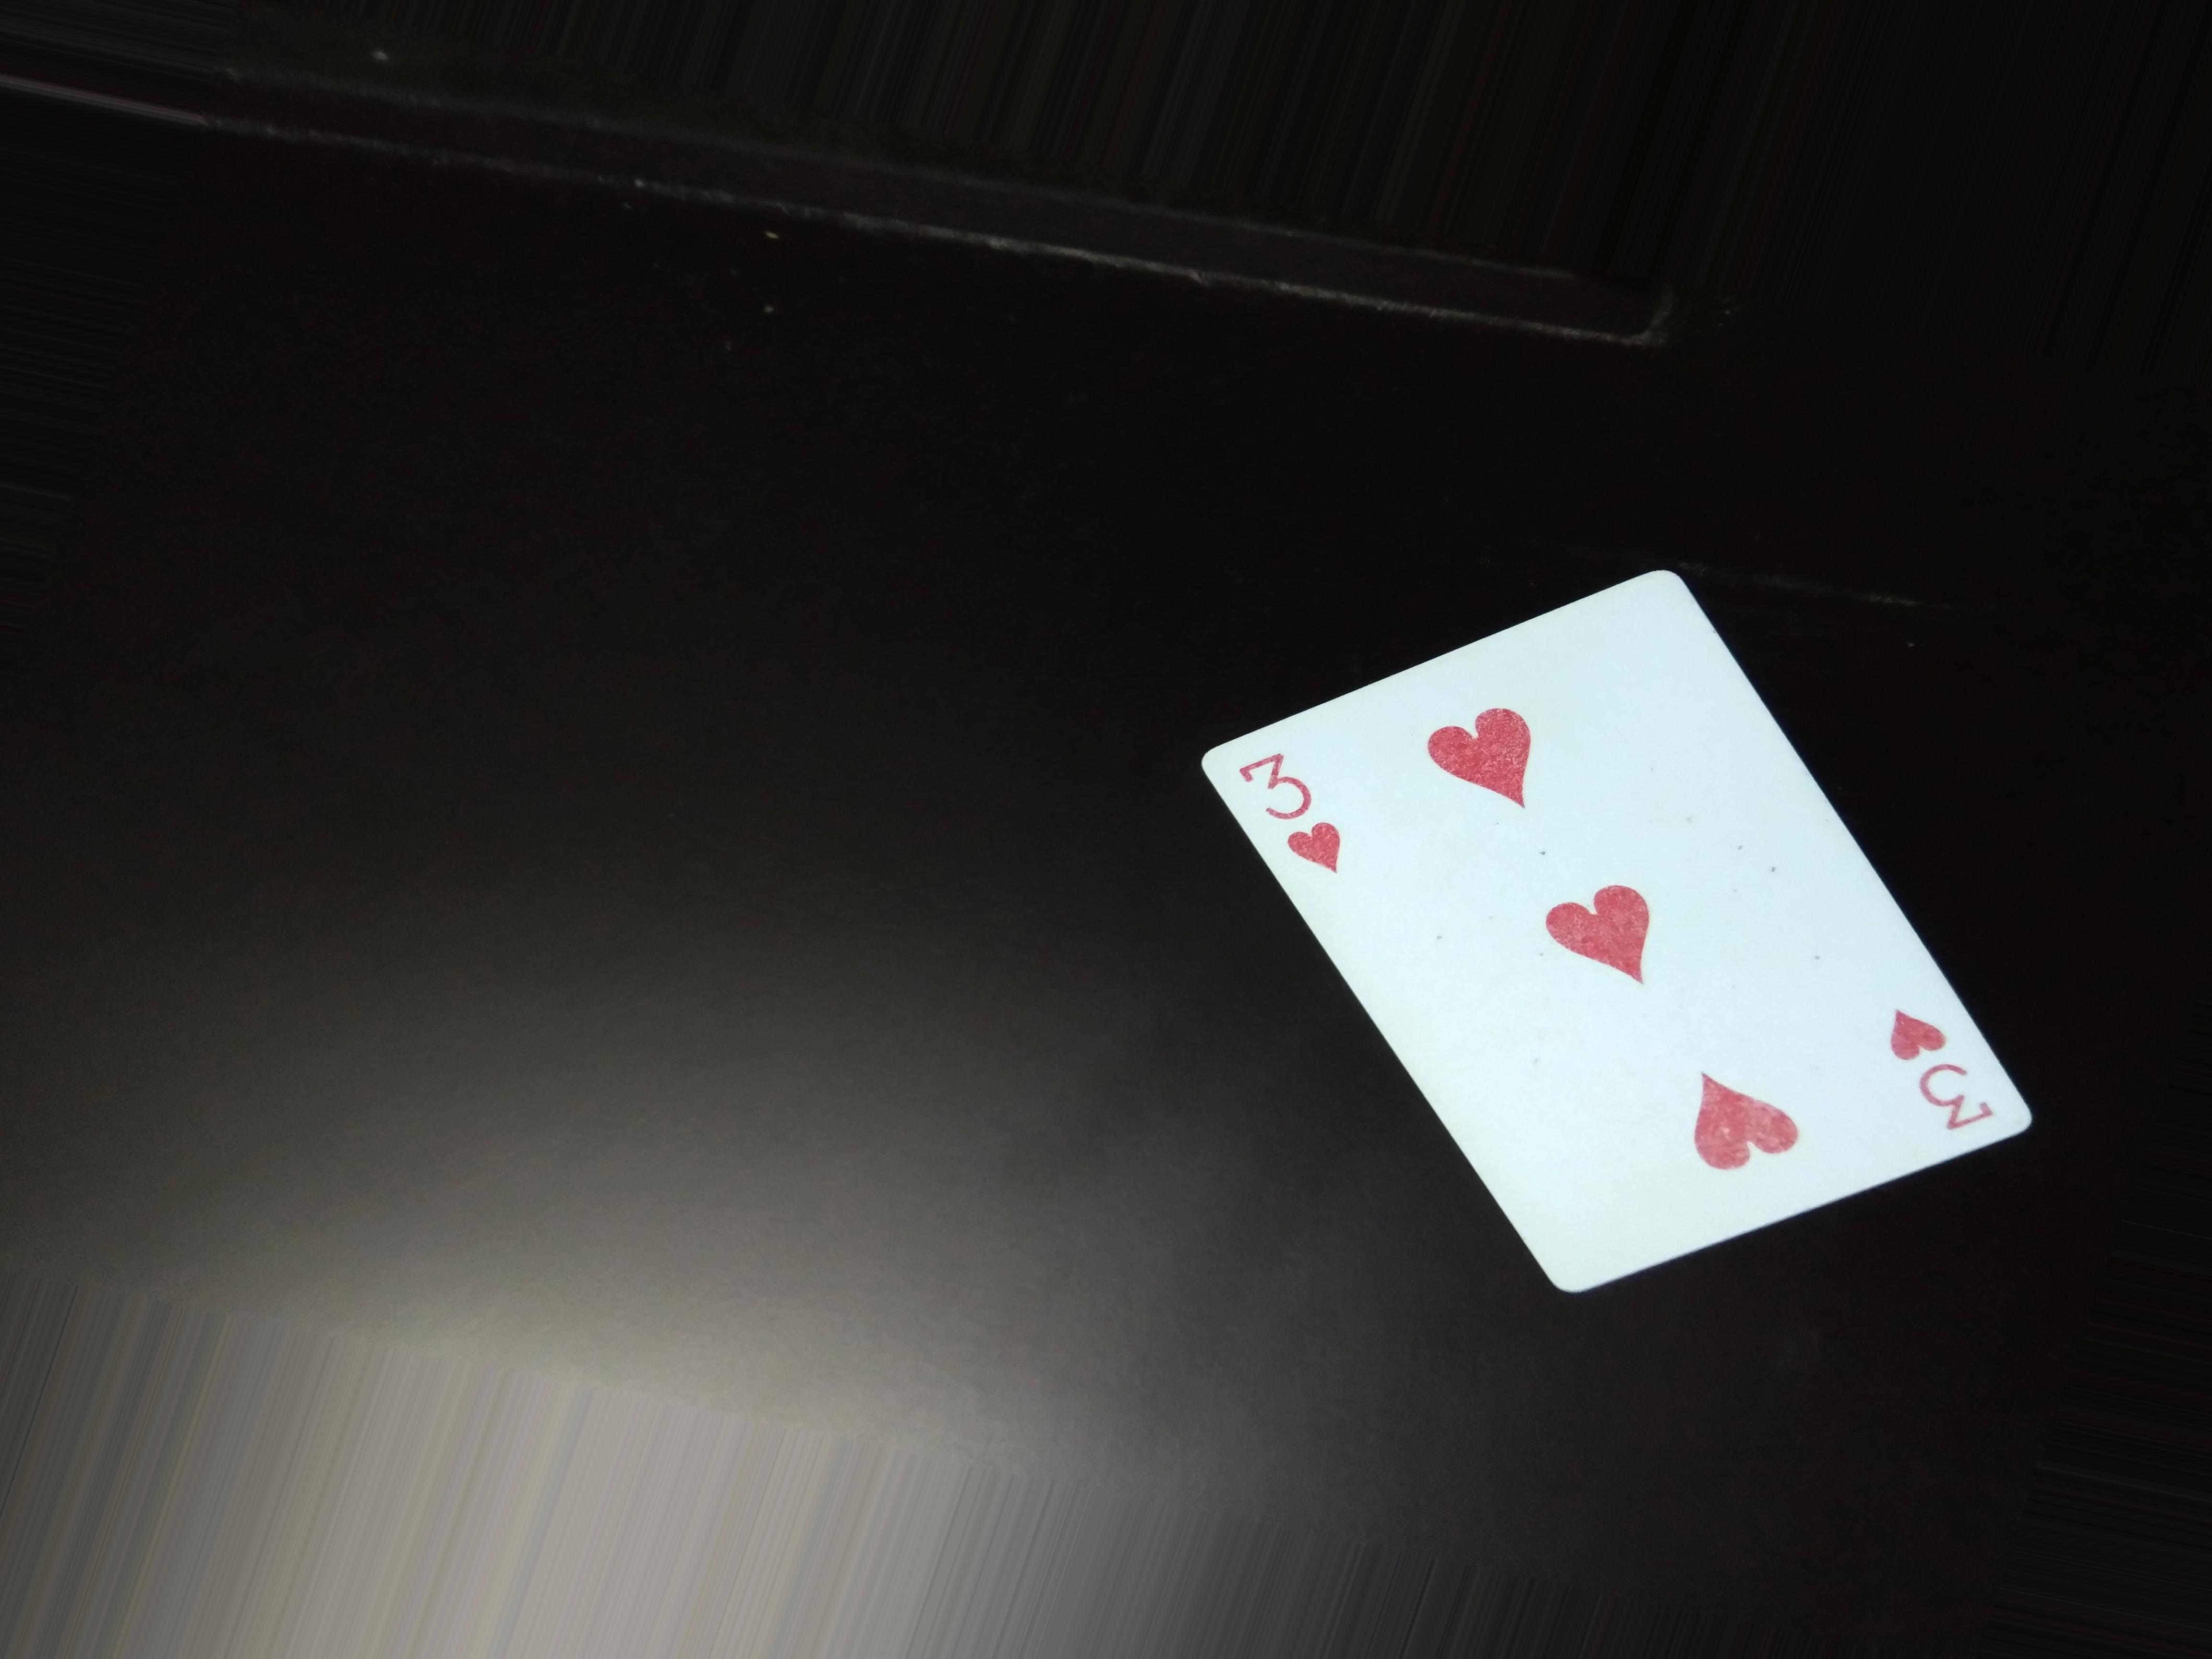3H: (1223, 744, 1350, 884)
